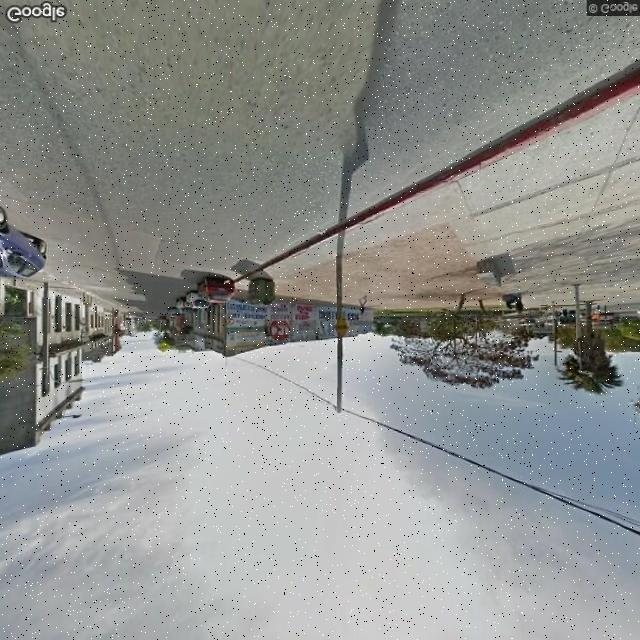garbage container: (242, 268, 283, 310)
